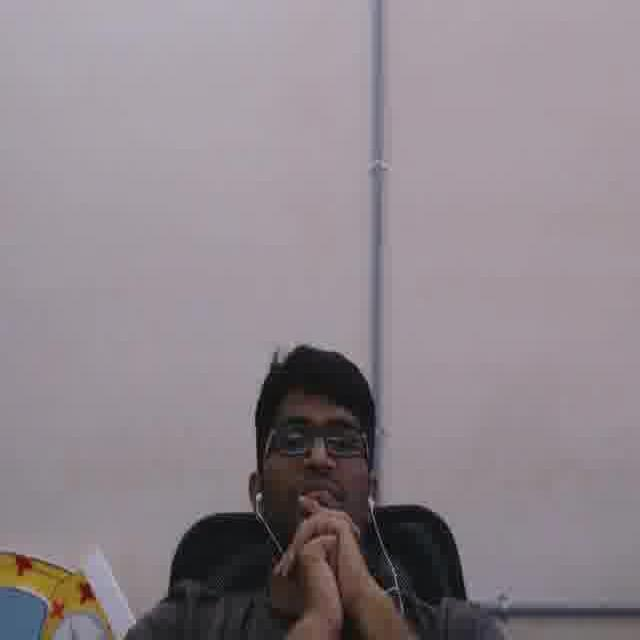Boredom: (264, 383, 368, 549)
